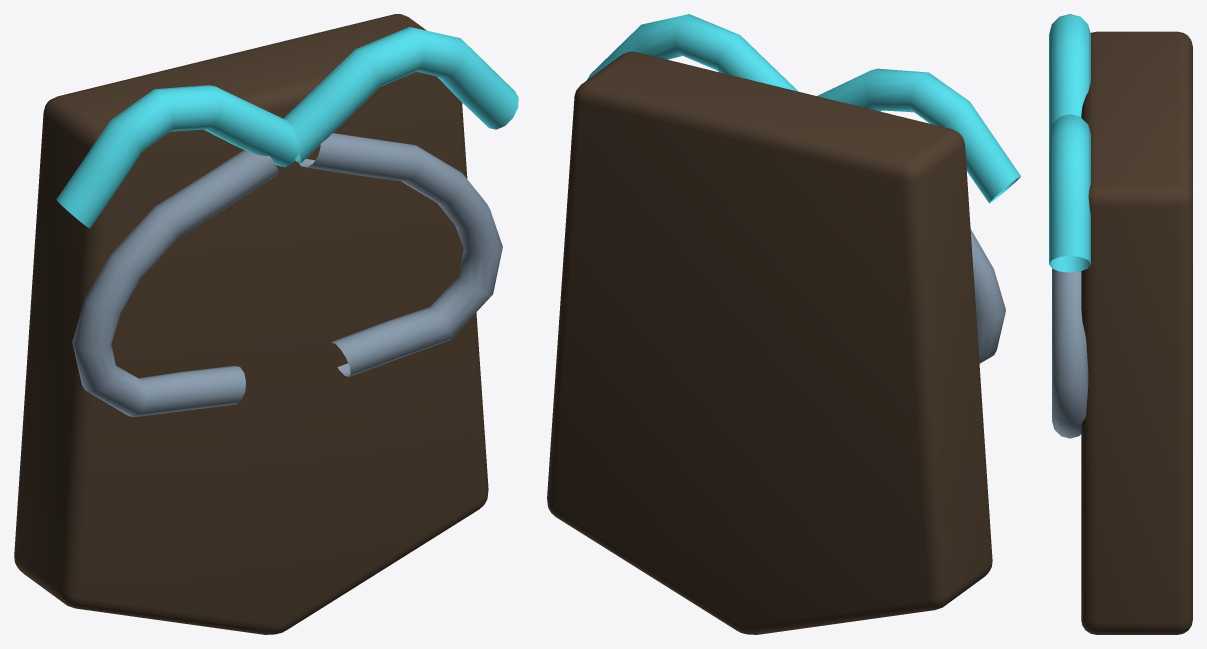
Rendered from cuirass_v7.glb.
The picture shows the model from 3 angles, left to right: view 1: azimuth 30°, elevation 25°; view 2: azimuth 150°, elevation 25°; view 3: azimuth 270°, elevation 25°; orthographic projection. The views are drawn at different scales.
Visible parts, largest first — view 1: BONE_VEST_SECONDARY, RIBCAGE_PRIMARY, RIBCAGE_PRIMARY.001, COLLARBONE_ACCENT, COLLARBONE_ACCENT.001; view 2: BONE_VEST_SECONDARY, COLLARBONE_ACCENT, COLLARBONE_ACCENT.001, RIBCAGE_PRIMARY; view 3: BONE_VEST_SECONDARY, COLLARBONE_ACCENT.001, RIBCAGE_PRIMARY.001, COLLARBONE_ACCENT.
Part boxes in pixels (bbox=[...]): BONE_VEST_SECONDARY: bbox=[14, 14, 488, 634]; RIBCAGE_PRIMARY: bbox=[72, 150, 278, 417]; RIBCAGE_PRIMARY.001: bbox=[299, 133, 502, 376]; COLLARBONE_ACCENT: bbox=[56, 85, 298, 228]; COLLARBONE_ACCENT.001: bbox=[283, 27, 518, 163]; BONE_VEST_SECONDARY: bbox=[547, 51, 992, 634]; COLLARBONE_ACCENT: bbox=[817, 68, 1020, 203]; COLLARBONE_ACCENT.001: bbox=[587, 14, 798, 91]; RIBCAGE_PRIMARY: bbox=[970, 229, 1005, 363]; BONE_VEST_SECONDARY: bbox=[1081, 31, 1192, 634]; COLLARBONE_ACCENT.001: bbox=[1049, 114, 1090, 272]; RIBCAGE_PRIMARY.001: bbox=[1052, 268, 1088, 438]; COLLARBONE_ACCENT: bbox=[1049, 14, 1090, 134].
Size of the model in its own units: 1.74 by 2.13 by 0.515.
